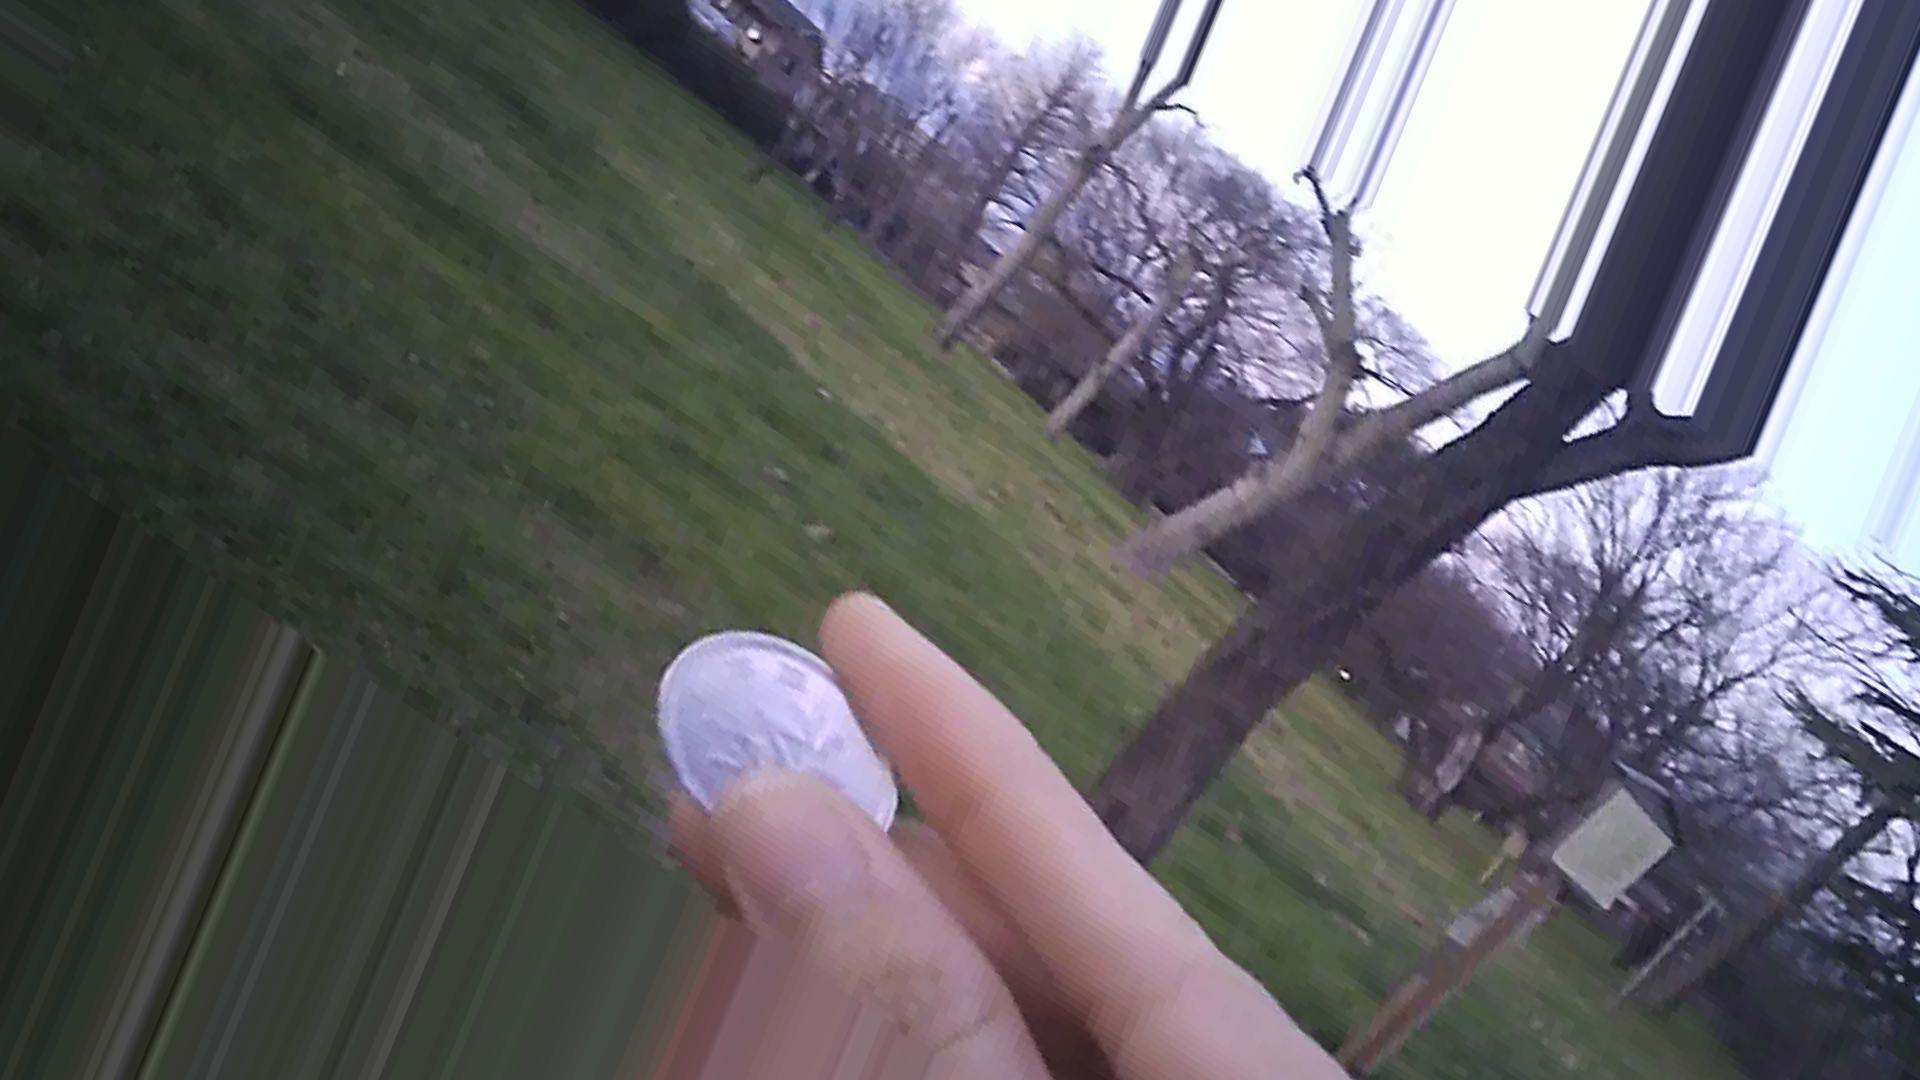1 Yen: (633, 620, 936, 856)
